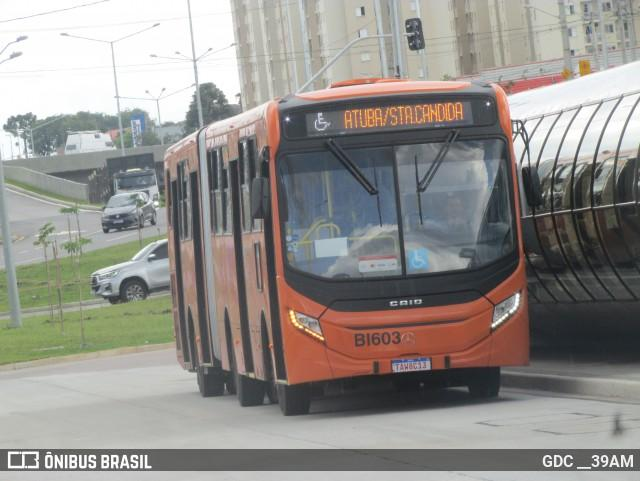ATUBA STACANDIDA: (338, 97, 467, 133)
